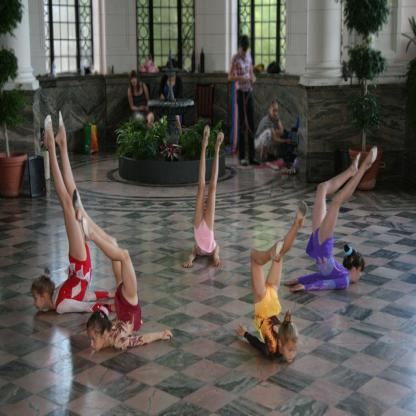face: (90, 334, 105, 352), (283, 345, 298, 363), (34, 294, 44, 312), (354, 269, 363, 283), (271, 107, 279, 118), (132, 78, 138, 86), (242, 48, 248, 55)
